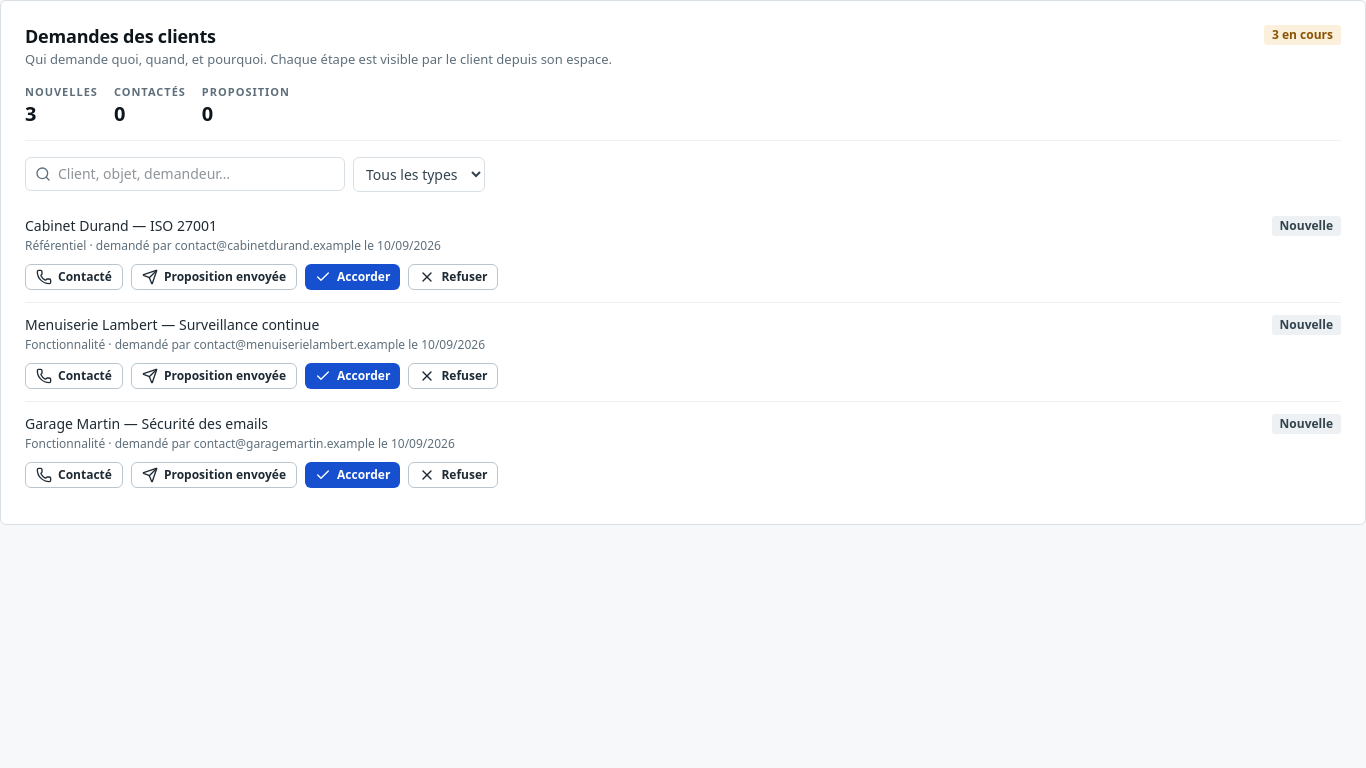
Test case: RequestsPanel — chercher dans la file › filtre par type de demande
Select "Référentiel" in the dropdown named "Filtrer par type de demande". click: (419, 174)
box: x1=353 y1=156 x2=485 y2=192
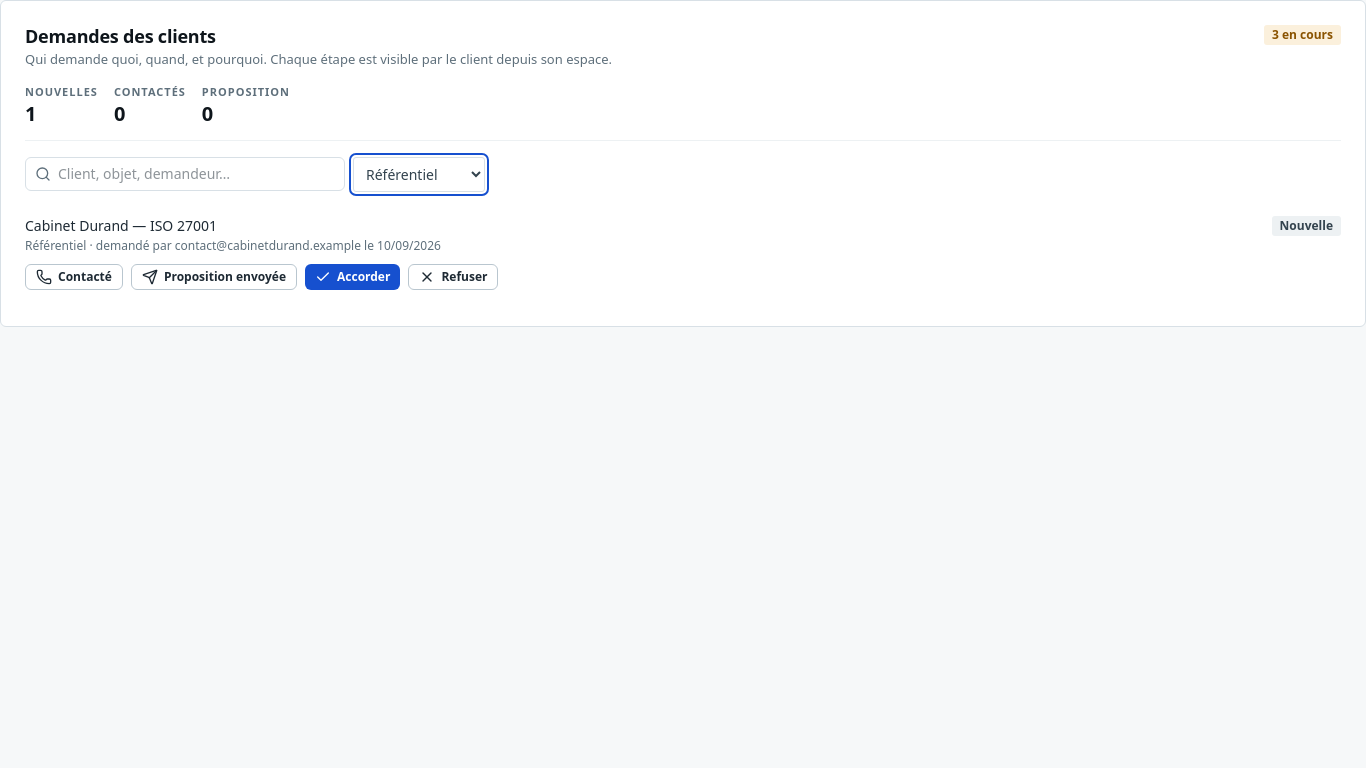
Expected: the text "Cabinet Durand — ISO 27001" is shown, x1=25 y1=216 x2=217 y2=234
Expected: the number of list items is 1, x1=25 y1=204 x2=1341 y2=302
